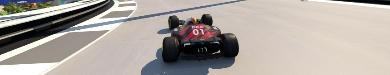Car: (161, 13, 239, 61)
obstacles-Borders: (0, 0, 110, 59)
